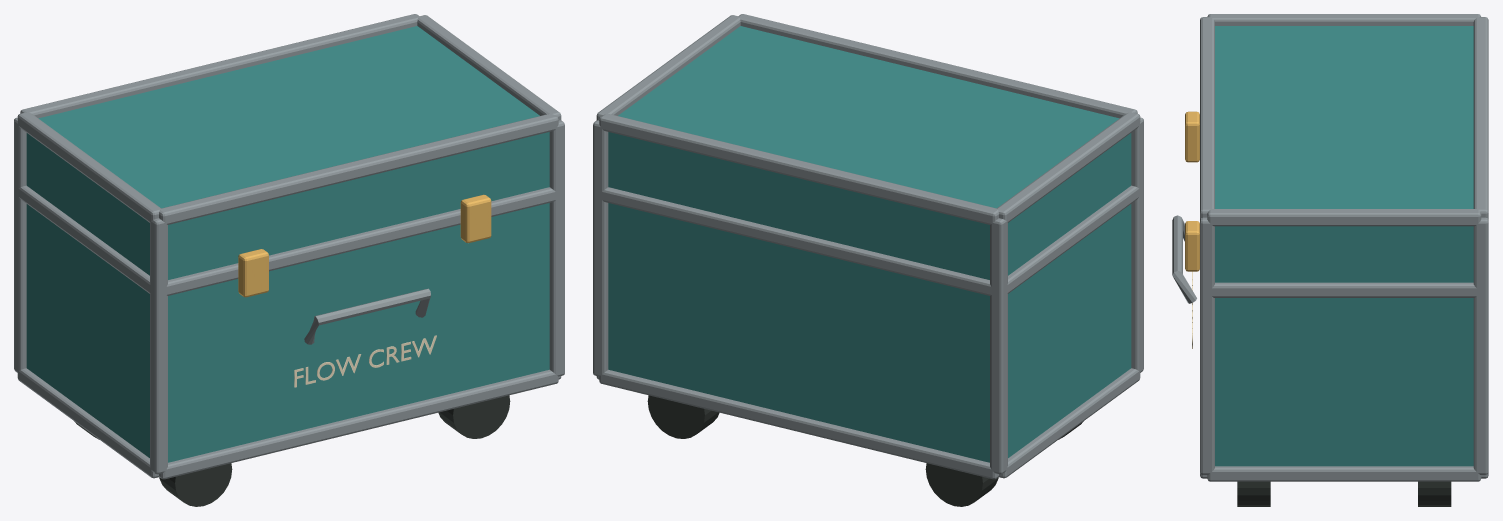
File: AH02_FlightCase.fbx
3 renders of one model, left to right at view 1: azimuth 30°, elevation 25°; view 2: azimuth 150°, elevation 25°; view 3: azimuth 270°, elevation 25°, orthographic.
Parts seen in each view (by area): view 1: AH02_FlightCase_AH02_Teal, AH02_FlightCase_AH02_Metal, AH02_FlightCase_AH02_Rubber, AH02_FlightCase_AH02_Ochre, AH02_FlightCase_AH02_Cream; view 2: AH02_FlightCase_AH02_Teal, AH02_FlightCase_AH02_Metal, AH02_FlightCase_AH02_Rubber; view 3: AH02_FlightCase_AH02_Teal, AH02_FlightCase_AH02_Metal, AH02_FlightCase_AH02_Rubber, AH02_FlightCase_AH02_Ochre.
Part boxes in pixels (<box>): AH02_FlightCase_AH02_Teal: <box>26,26,549,462</box>; AH02_FlightCase_AH02_Metal: <box>14,14,564,479</box>; AH02_FlightCase_AH02_Rubber: <box>74,395,510,506</box>; AH02_FlightCase_AH02_Ochre: <box>238,194,491,297</box>; AH02_FlightCase_AH02_Cream: <box>294,335,436,387</box>; AH02_FlightCase_AH02_Teal: <box>608,26,1131,462</box>; AH02_FlightCase_AH02_Metal: <box>593,14,1143,479</box>; AH02_FlightCase_AH02_Rubber: <box>647,395,1083,506</box>; AH02_FlightCase_AH02_Teal: <box>1215,26,1473,466</box>; AH02_FlightCase_AH02_Metal: <box>1172,14,1488,481</box>; AH02_FlightCase_AH02_Rubber: <box>1237,481,1451,506</box>; AH02_FlightCase_AH02_Ochre: <box>1185,111,1199,271</box>.
Size of the model in its own units: 122 by 90.9 by 80.86.
